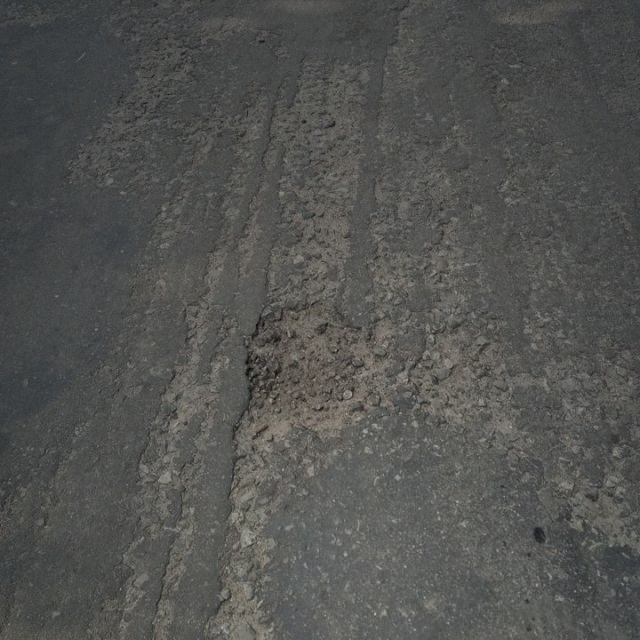pothole: (228, 297, 370, 449)
